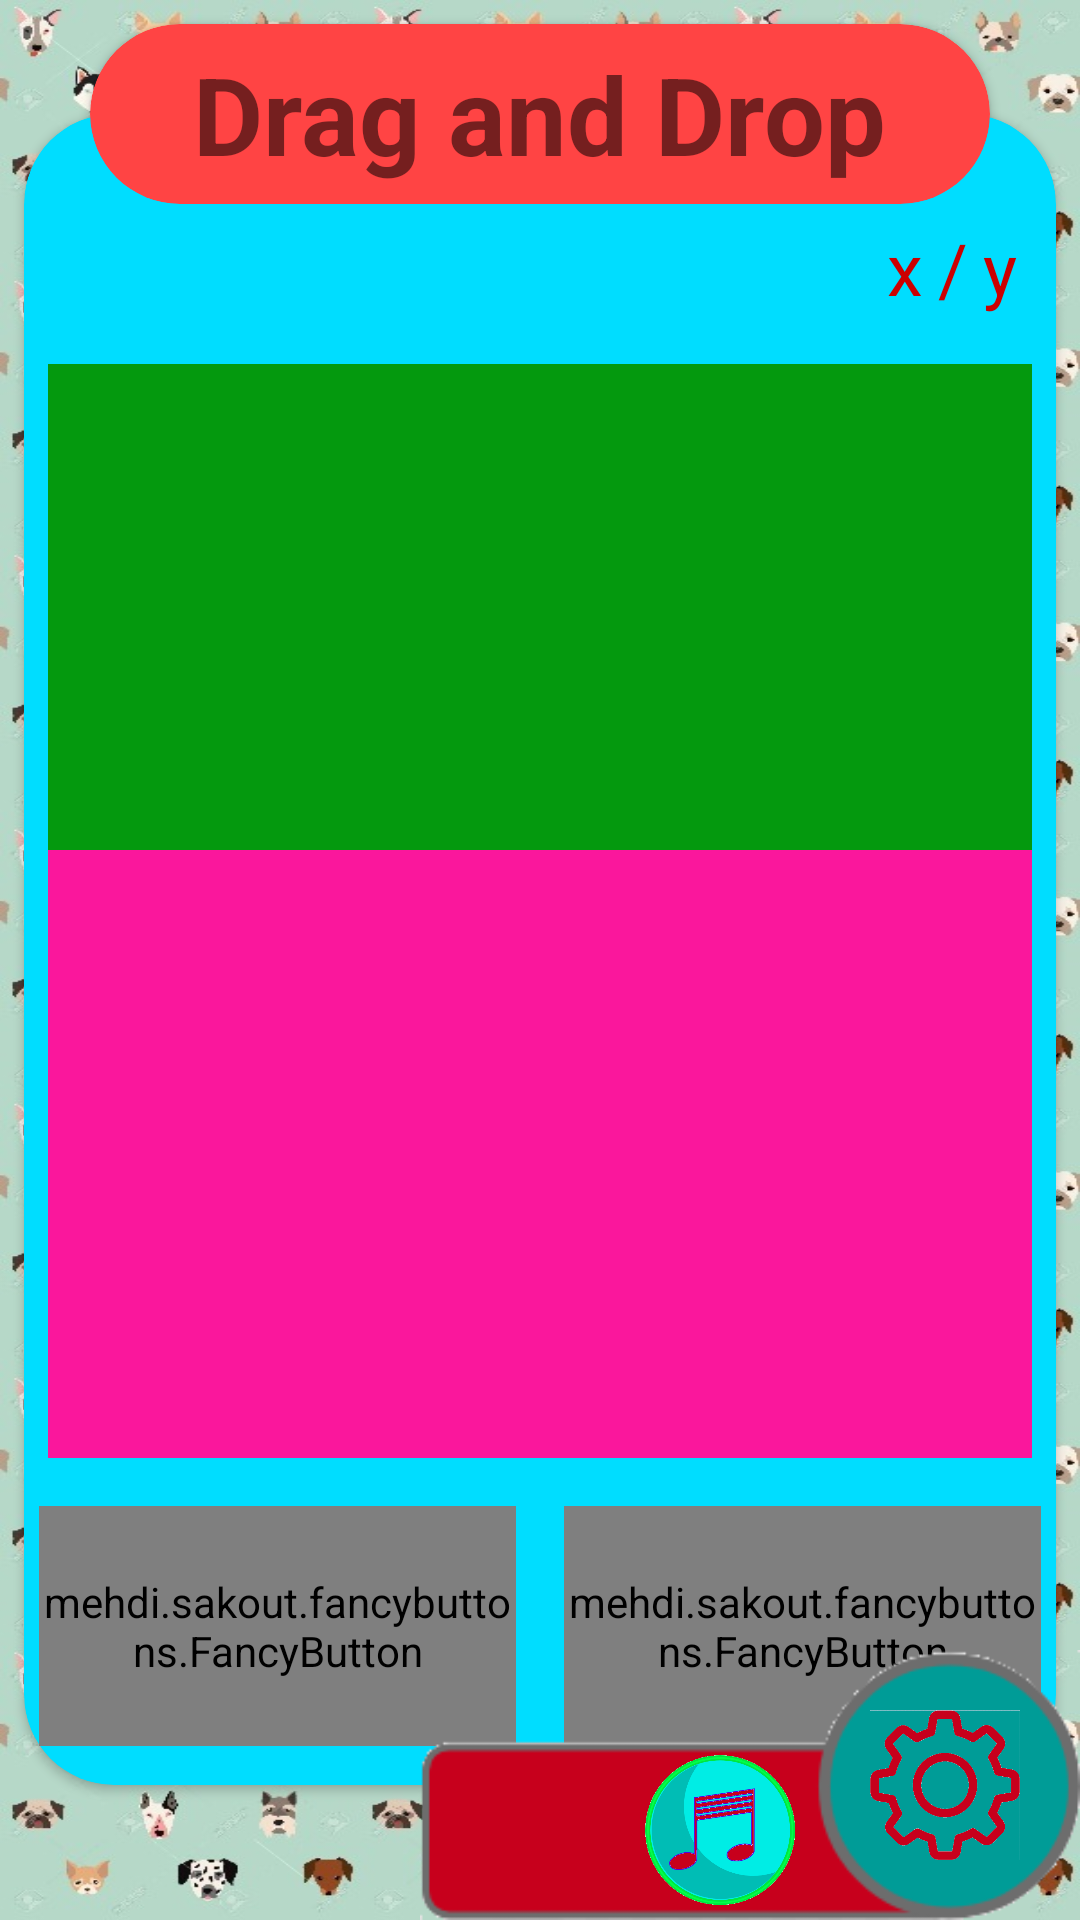

Where to tap for icons on this 1080 × 1920 app screen, as (x=x, y=y):
music on: (x=720, y=1830)
setting: (x=945, y=1785)
